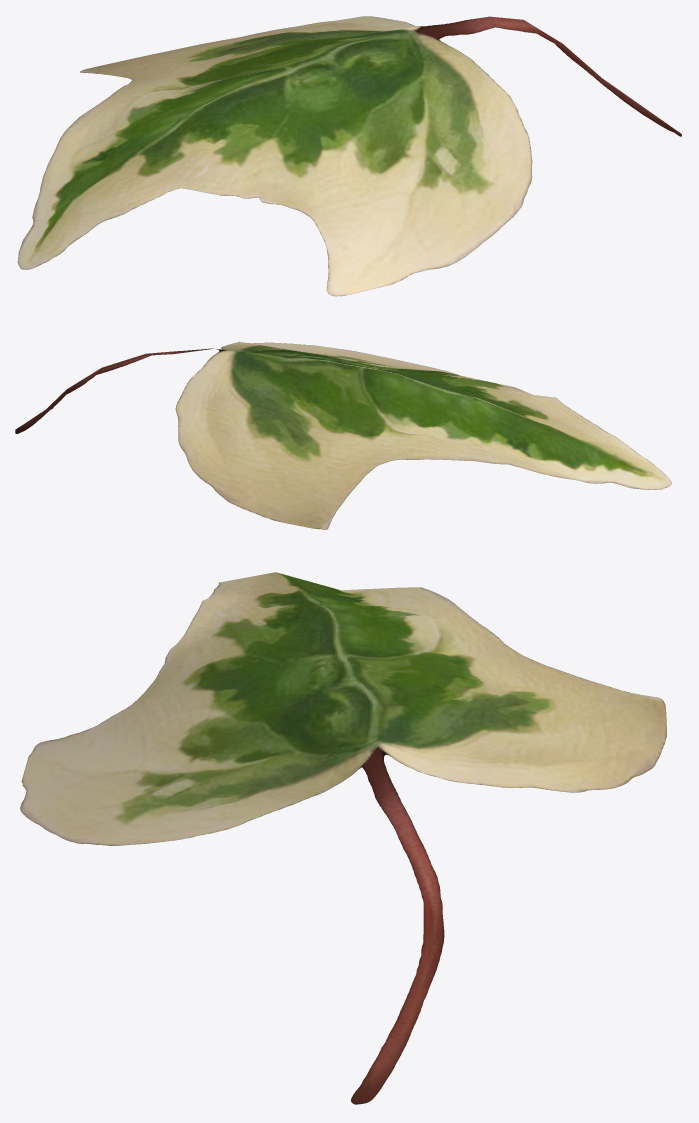
The model's file is hedraleave5.fbx.
3 renders of one model, top to bottom at view 1: azimuth 30°, elevation 25°; view 2: azimuth 150°, elevation 25°; view 3: azimuth 270°, elevation 25°, orthographic. The views are drawn at different scales.
Visible parts, largest first — view 1: hedraleave5; view 2: hedraleave5; view 3: hedraleave5.
Boxes of the visible parts, x1,y1,x2,y2 form: hedraleave5: (17, 16, 681, 296); hedraleave5: (15, 341, 671, 529); hedraleave5: (20, 572, 666, 1104).
Bounding box in the file's own units: 1.04 × 0.2332 × 0.6717.
